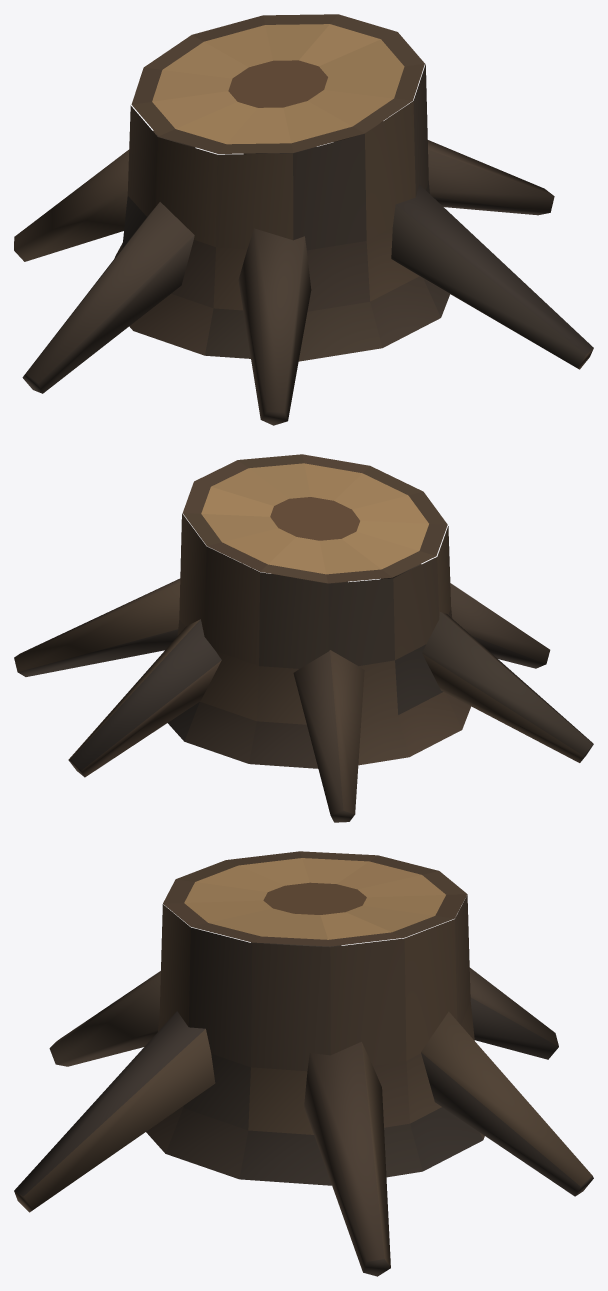
File: stump.glb
3 renders of one model, top to bottom at view 1: azimuth 30°, elevation 25°; view 2: azimuth 150°, elevation 25°; view 3: azimuth 270°, elevation 25°, orthographic. The views are drawn at different scales.
Visible parts, largest first — view 1: stump; view 2: stump; view 3: stump.
Part boxes in pixels (x1,y1,x2,y2): stump: (14,14,593,425); stump: (14,454,593,822); stump: (14,851,593,1276).
Bounding box in the file's own units: 1.86 × 0.7349 × 1.56.
